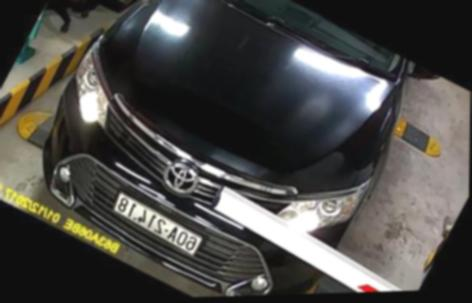License_Plate: (117, 188, 207, 255)
